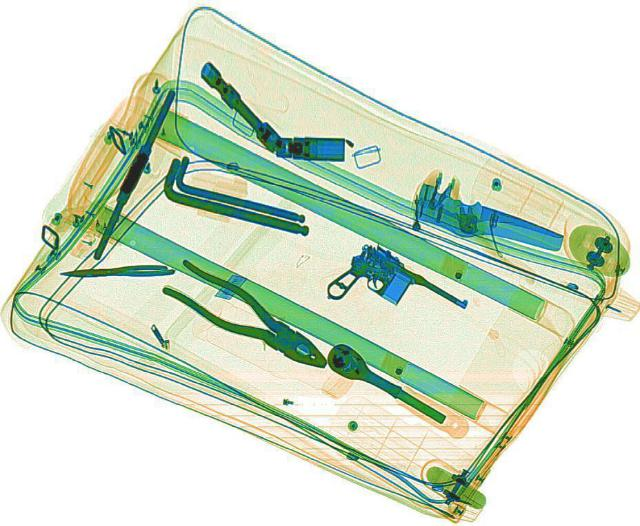Gun: (314, 236, 472, 350)
Pliers: (152, 258, 344, 378), (58, 260, 178, 278)
